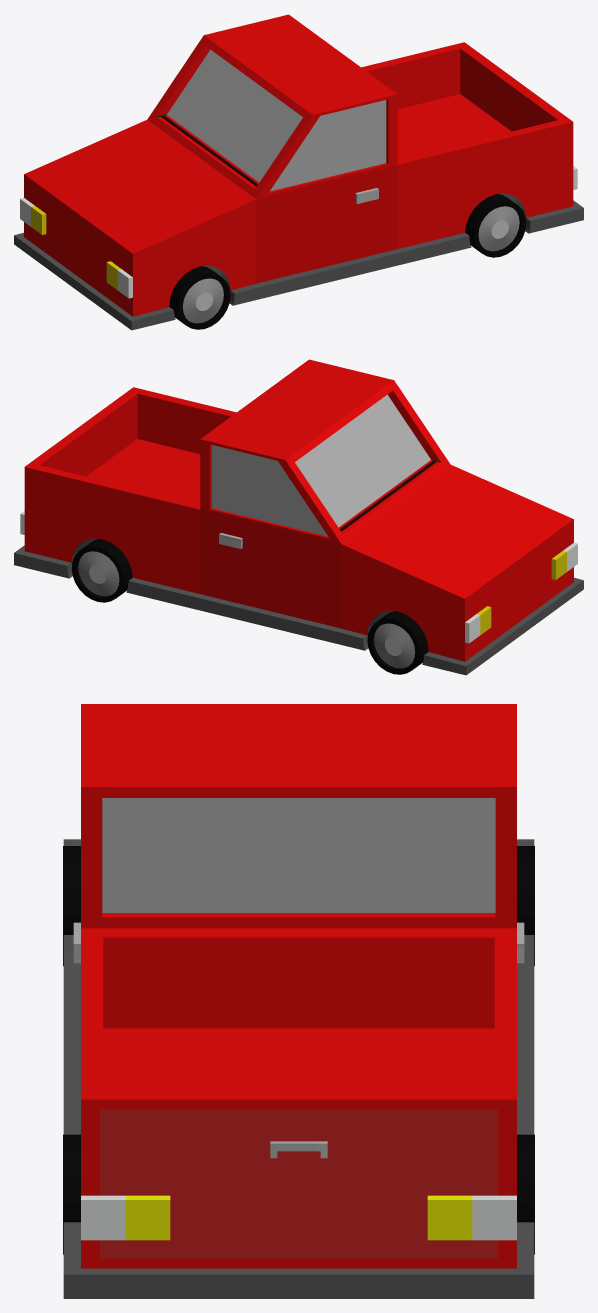
The model's file is car.fbx.
The picture shows the model from 3 angles, top to bottom: view 1: azimuth 30°, elevation 25°; view 2: azimuth 150°, elevation 25°; view 3: azimuth 270°, elevation 25°; orthographic projection. The views are drawn at different scales.
Visible parts, largest first — view 1: Car; view 2: Car; view 3: Car.
Part boxes in pixels (x1,y1,x2,y2): Car: (14,14,583,330); Car: (14,359,583,675); Car: (63,704,534,1298).
Bounding box in the file's own units: 479 × 186 × 217.
